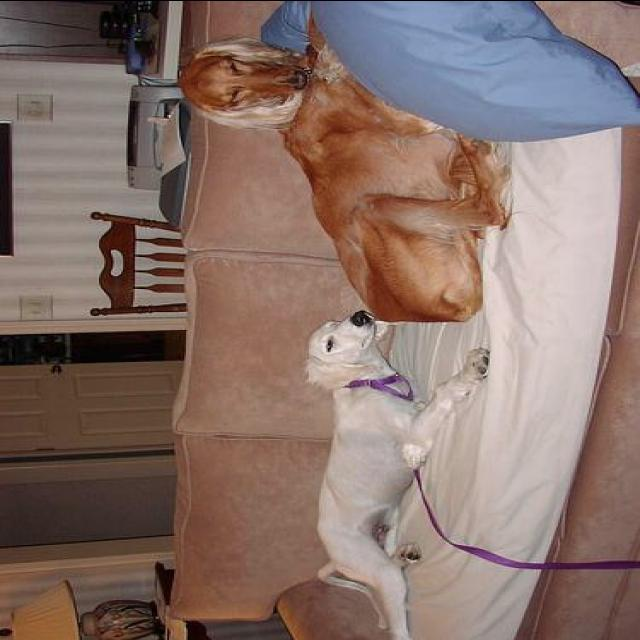saluki: (184, 9, 517, 321), (304, 310, 492, 638)
